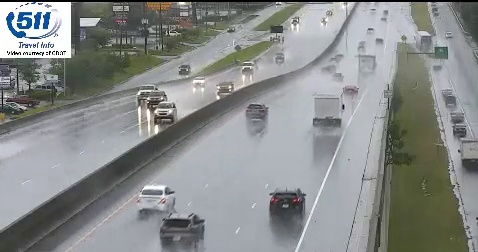car: (161, 213, 205, 243), (136, 186, 175, 214), (270, 189, 304, 215), (246, 103, 268, 119)
small-truck: (313, 94, 343, 128)
